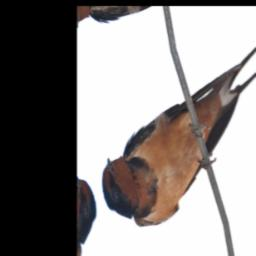Swallow: (88, 41, 256, 249)
